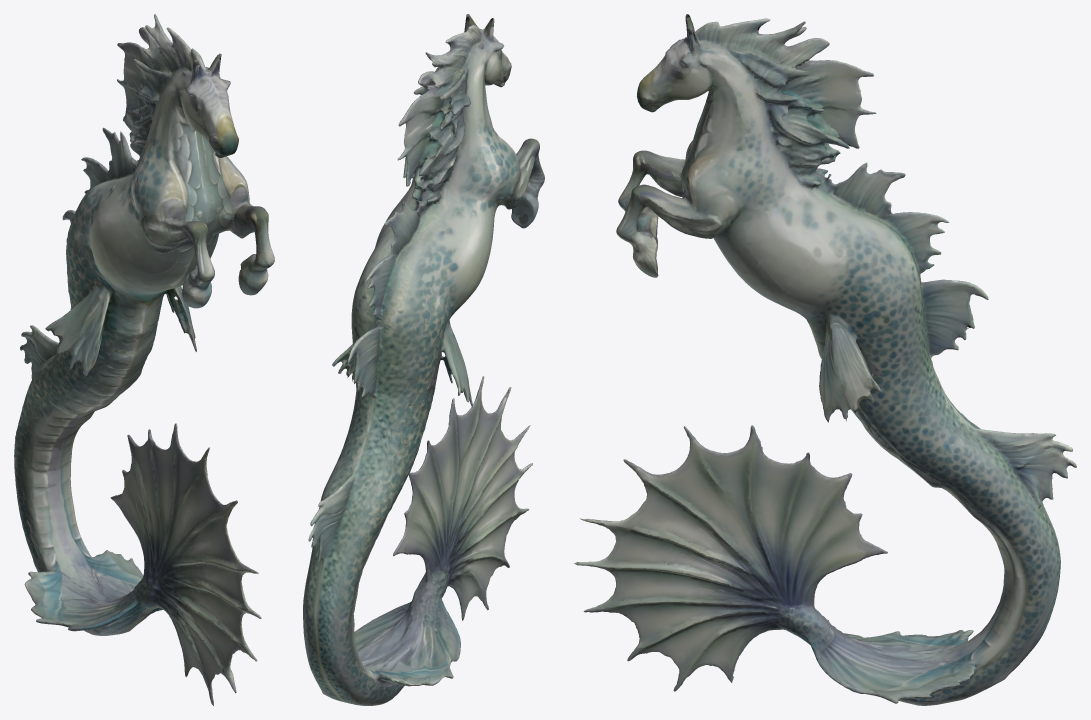
File: hippocampus__sea-horse.glb
The picture shows the model from 3 angles, left to right: view 1: azimuth 30°, elevation 25°; view 2: azimuth 150°, elevation 25°; view 3: azimuth 270°, elevation 25°; orthographic projection. The views are drawn at different scales.
Size of the model in its own units: 0.4445 by 1.99 by 1.33.
Materials: 1 (1 with a texture image).
